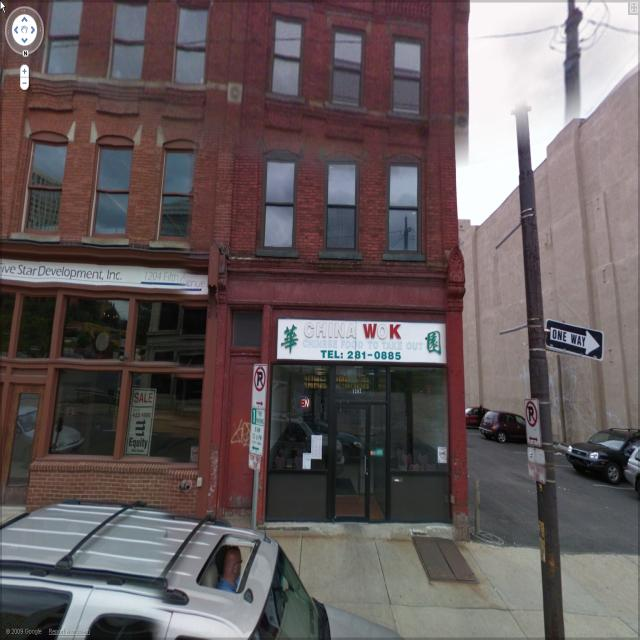window: (43, 307, 209, 460), (271, 364, 333, 466), (392, 369, 450, 475), (21, 132, 67, 241), (262, 18, 314, 106), (1, 298, 63, 370), (323, 152, 365, 256), (260, 150, 300, 256), (90, 139, 130, 240), (386, 160, 425, 262), (327, 31, 371, 117), (41, 8, 91, 83), (390, 33, 428, 126), (170, 4, 212, 87), (108, 0, 148, 84), (160, 146, 192, 245)
